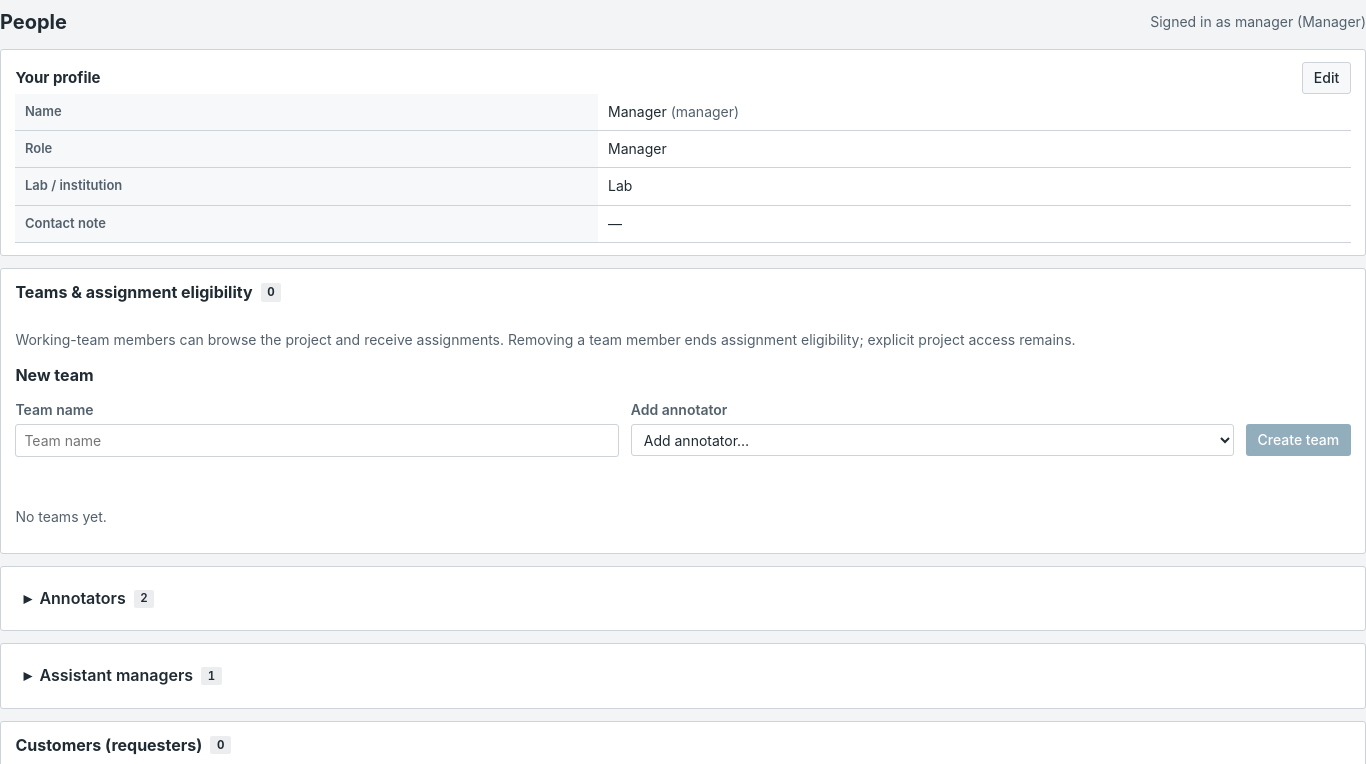
Test: folds even one assistant manager and omits the section's time report
The image size is (1366, 764).
Expected: the link "Alice" is not shown
Click the button "▸ Assistant managers 1" at (116,675), box [15,656,1351,696]
(page scrolled)
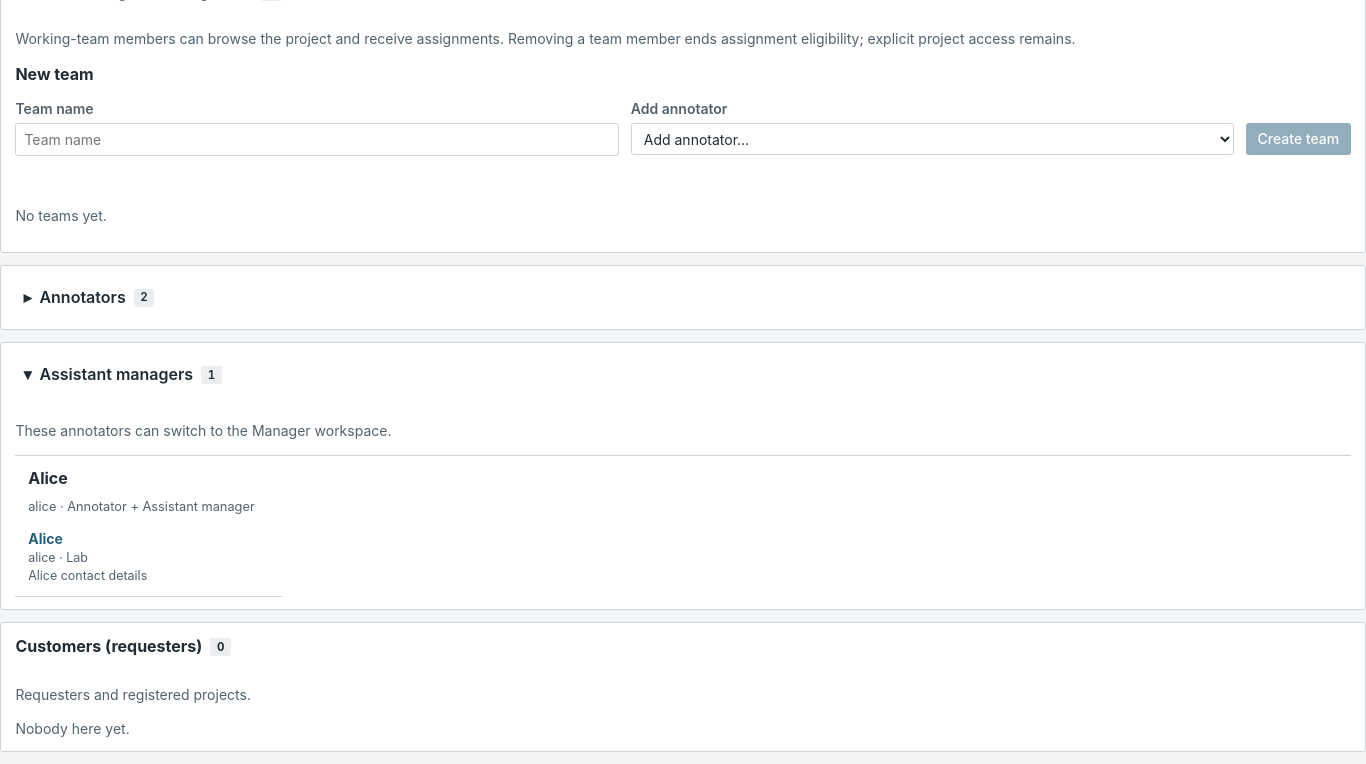
Now the link "Alice" is shown, box [28,530,63,547]
Now the text "alice · Annotator + Assistant manager" is shown once, box [28,498,255,517]
